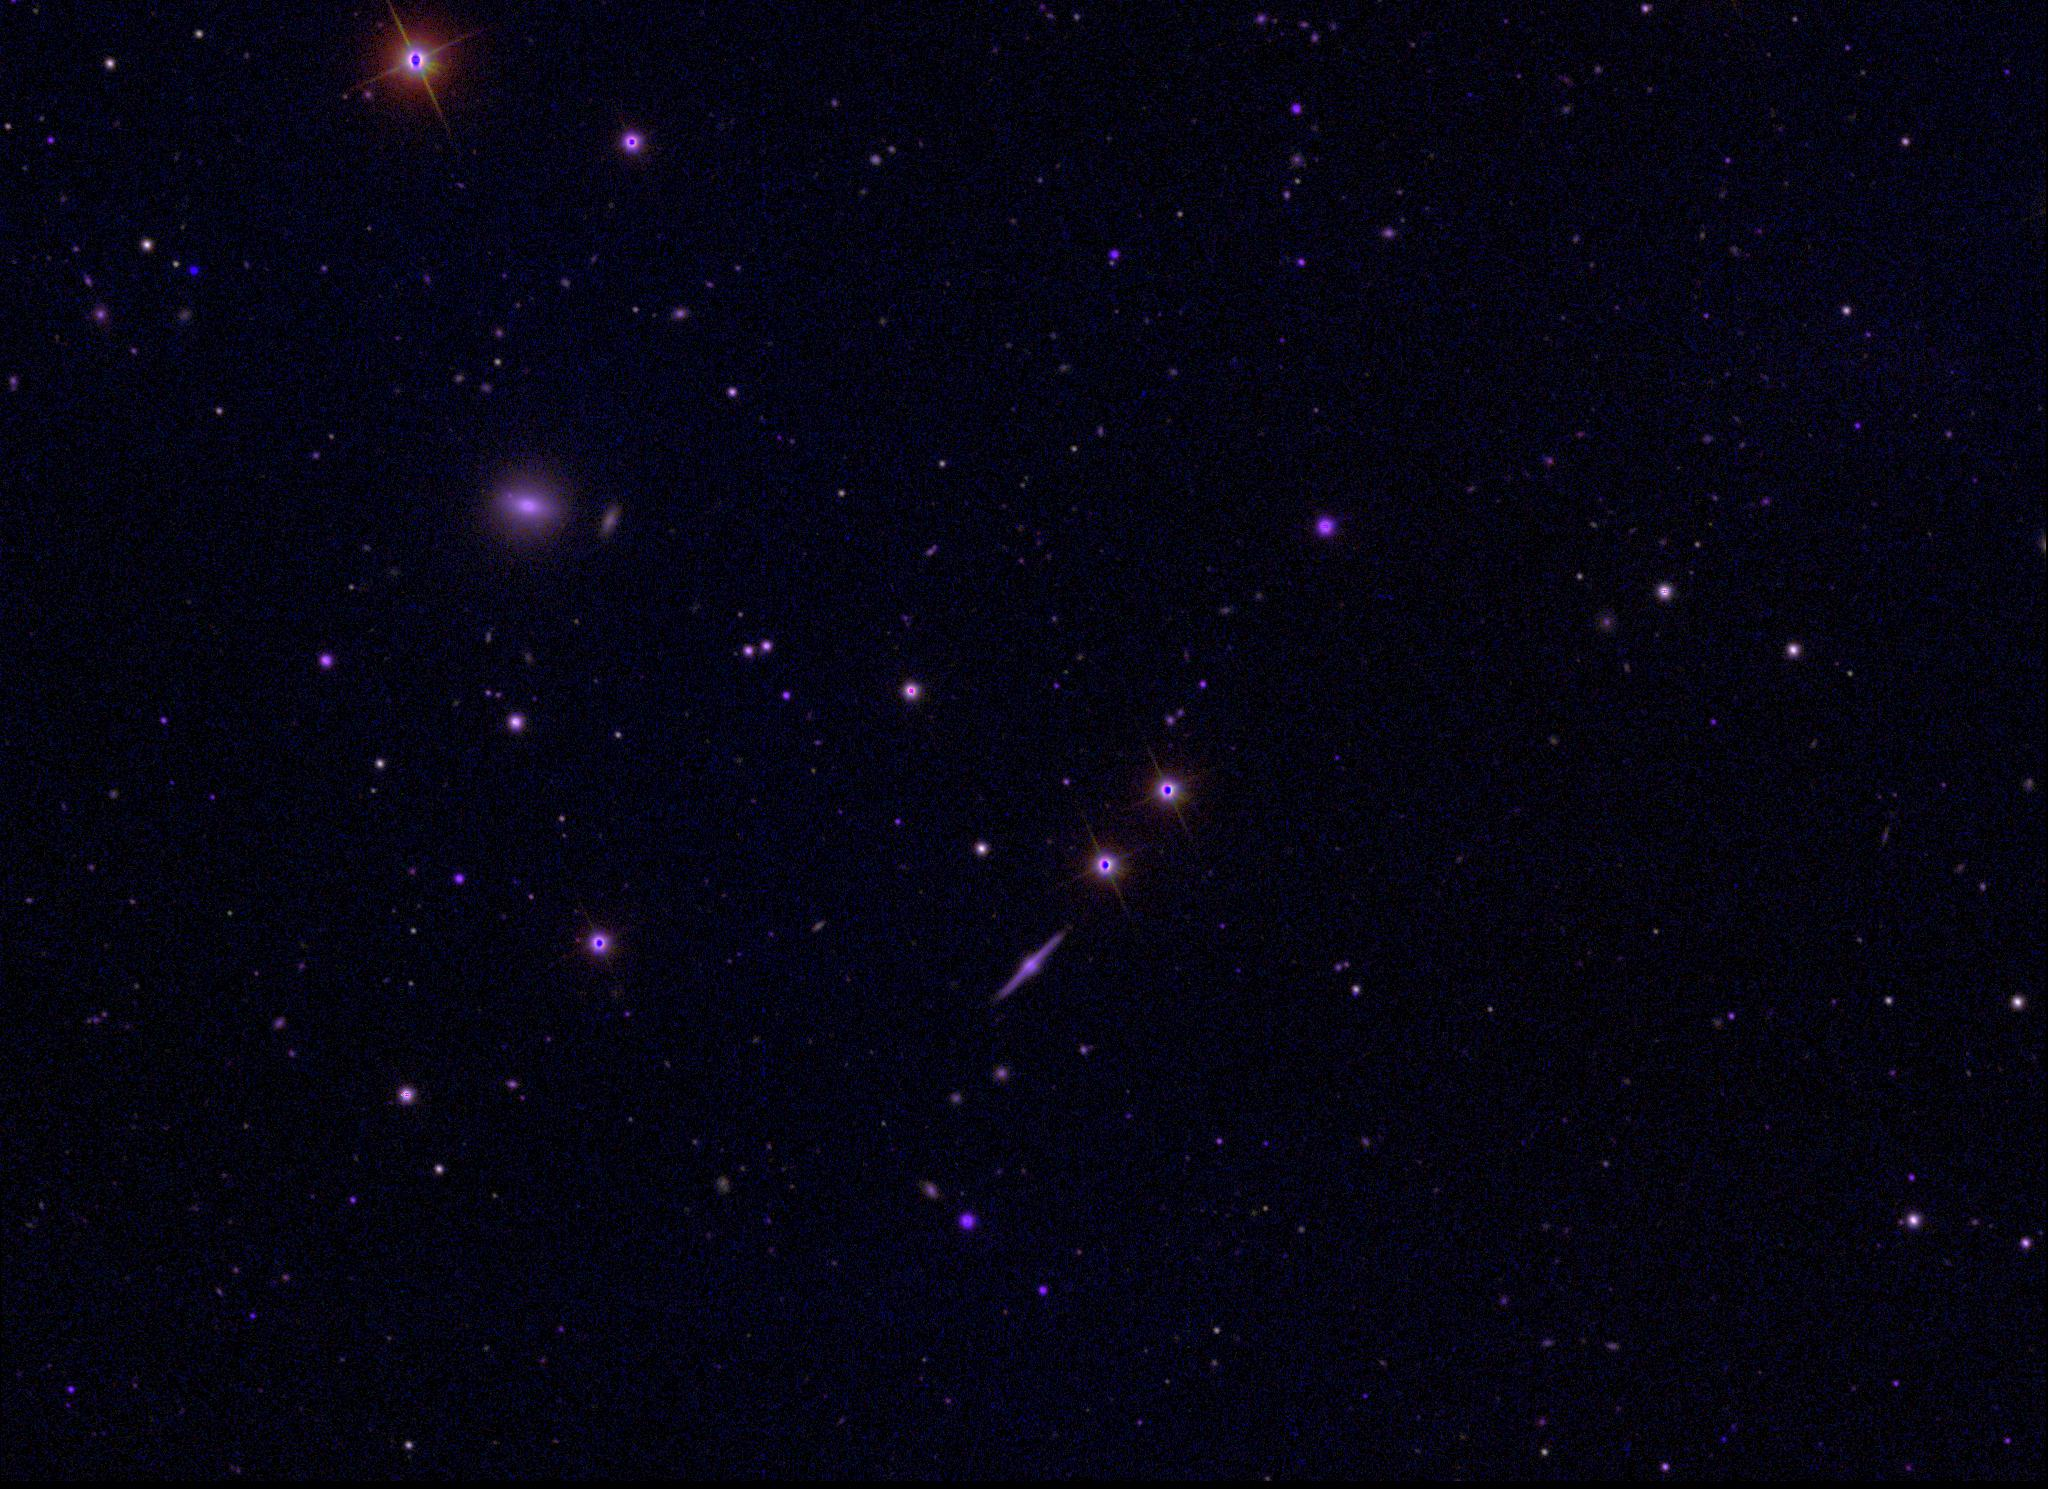L: (188, 259, 200, 274)
